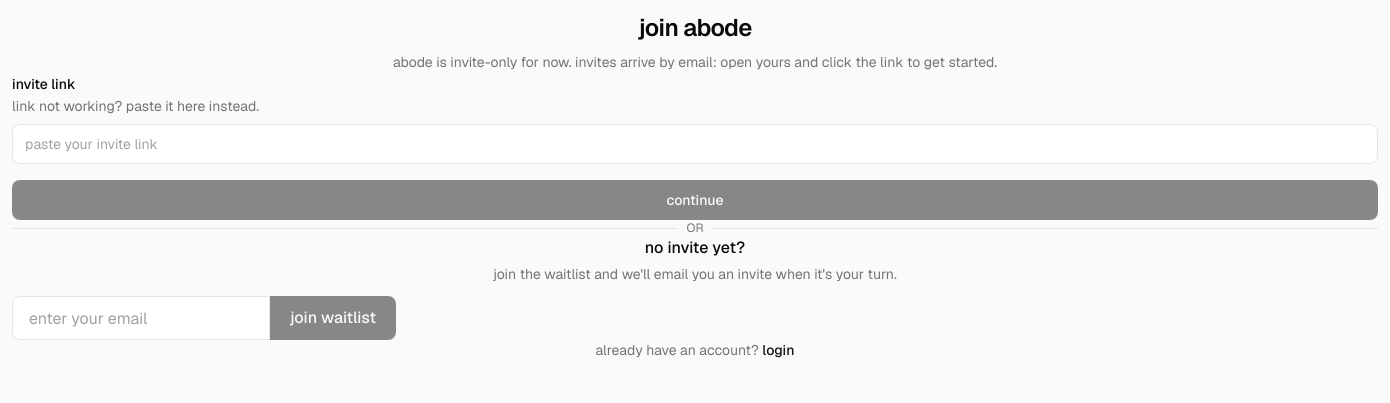
Test: JoinWithoutToken › explains, without navigating, when the paste isn't an invite link
This screenshot has width=1390, height=403.
Type "someone@example.com" into the field labelled "invite link" at (695, 144), box left=12, top=124, right=1378, bottom=164
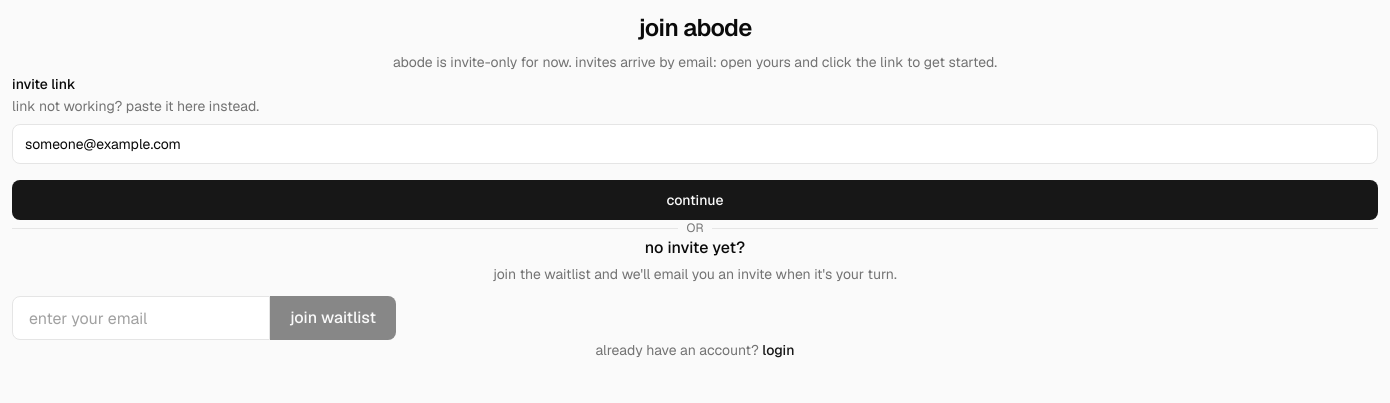
Click the button "continue" at (695, 200), box left=12, top=180, right=1378, bottom=220
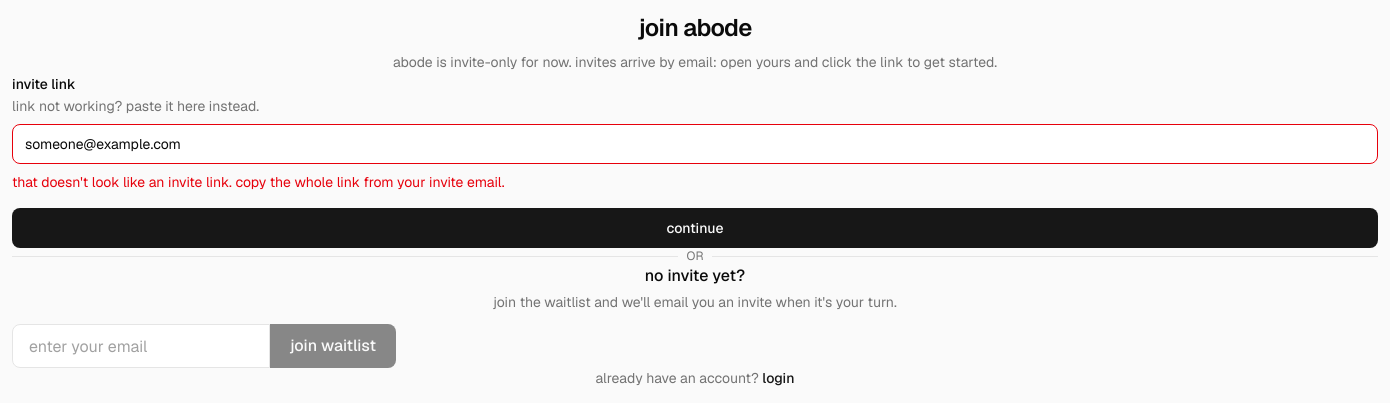
Result: the message shows "that doesn't look like an invite link" at left=12, top=173, right=504, bottom=191
